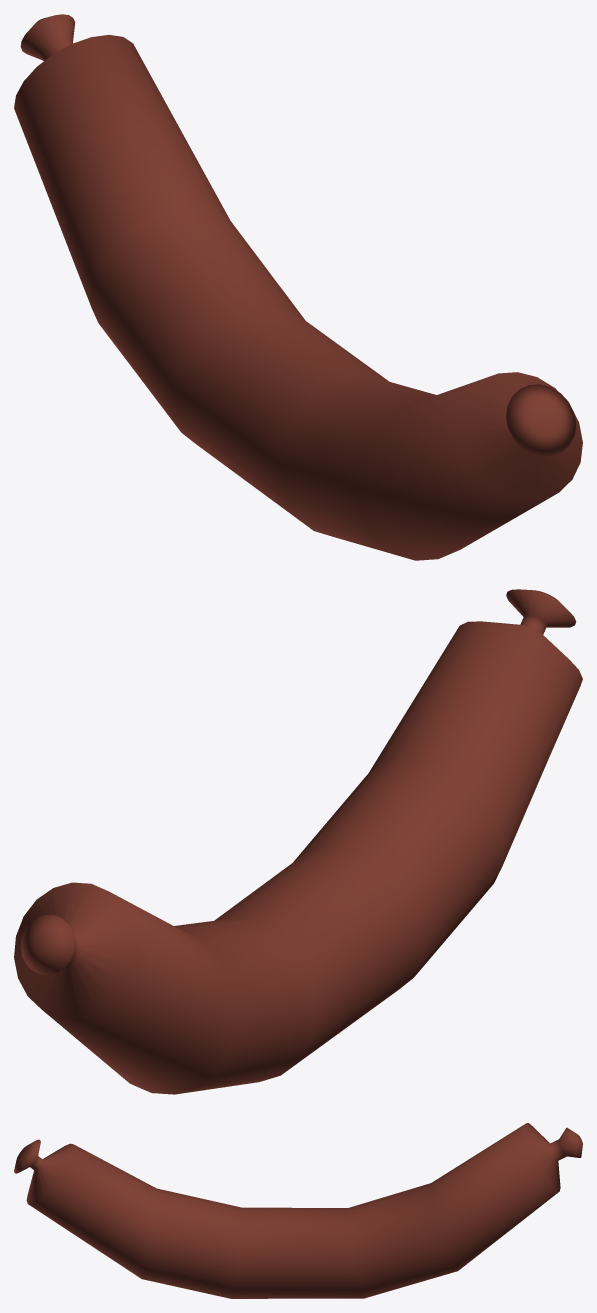
Rendered from Pepperoni.glb.
3 views of the same model, one above another, from view 1: azimuth 30°, elevation 25°; view 2: azimuth 150°, elevation 25°; view 3: azimuth 270°, elevation 25° (orthographic). The views are drawn at different scales.
Visible parts, largest first — view 1: Cylinder.034; view 2: Cylinder.034; view 3: Cylinder.034.
Boxes of the visible parts, box(x1,y1,x2,y2) form: Cylinder.034: box(14, 14, 582, 560); Cylinder.034: box(14, 589, 582, 1094); Cylinder.034: box(14, 1123, 582, 1298).
Bounding box in the file's own units: 0.1355 × 0.2717 × 0.8329.
